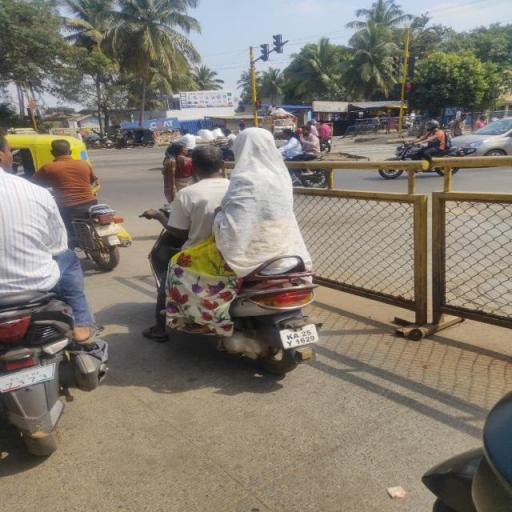bike: (138, 124, 343, 374)
numberplate: (278, 319, 321, 349)
withouthelmet: (234, 128, 276, 163), (193, 145, 222, 177)
